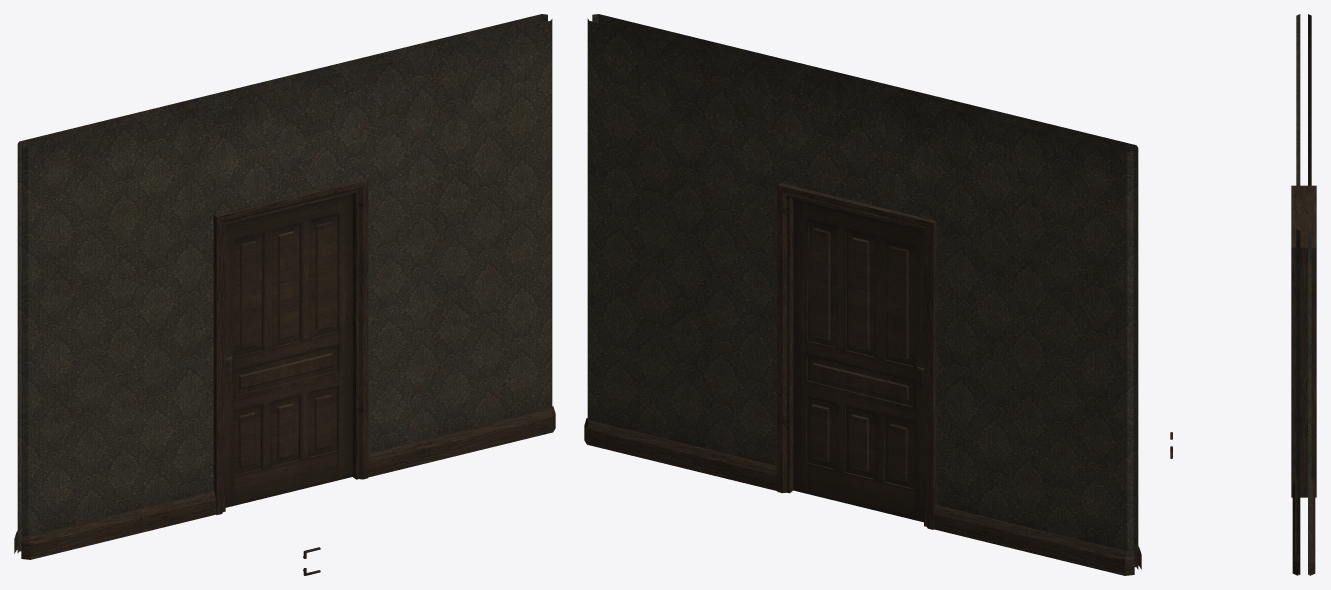
File: doorway_2.fbx
3 views of the same model, side by side, from view 1: azimuth 30°, elevation 25°; view 2: azimuth 150°, elevation 25°; view 3: azimuth 270°, elevation 25° (orthographic). The views are drawn at different scales.
Visible parts, largest first — view 1: doorway_2, door_2; view 2: doorway_2, door_2; view 3: doorway_2.
Boxes of the visible parts, x1=… form: doorway_2: x1=14, y1=14, x2=555, y2=559; door_2: x1=225, y1=193, x2=352, y2=507; doorway_2: x1=584, y1=14, x2=1141, y2=575; door_2: x1=793, y1=199, x2=923, y2=522; doorway_2: x1=1291, y1=14, x2=1316, y2=575.
Bounding box in the file's own units: 4.09 × 3.09 × 1.16.
5 materials, 5 textured.
